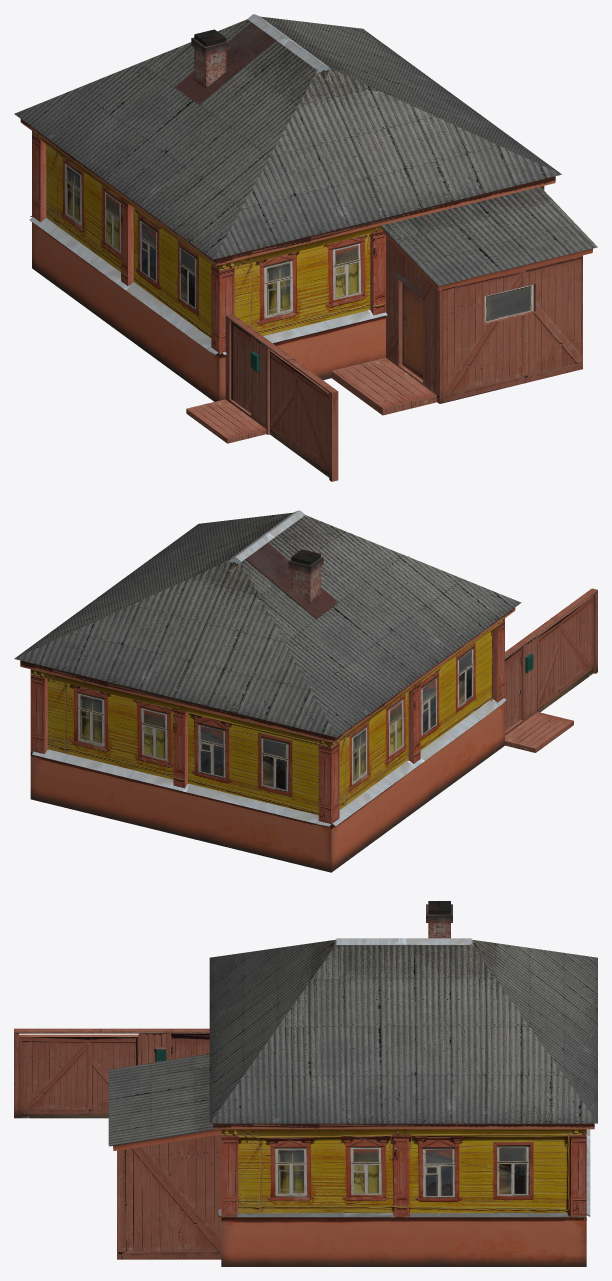
File: villagehouse28102020.fbx
The picture shows the model from 3 angles, top to bottom: view 1: azimuth 30°, elevation 25°; view 2: azimuth 150°, elevation 25°; view 3: azimuth 270°, elevation 25°; orthographic projection. The views are drawn at different scales.
Visible parts, largest first — view 1: Box002; view 2: Box002; view 3: Box002.
Boxes of the visible parts, left/top/right/bottom form: Box002: left=14, top=14, right=597, bottom=481; Box002: left=14, top=510, right=597, bottom=872; Box002: left=14, top=901, right=597, bottom=1266.
Bounding box in the file's own units: 9.11 × 6.17 × 12.78.
1 material, 1 textured.
